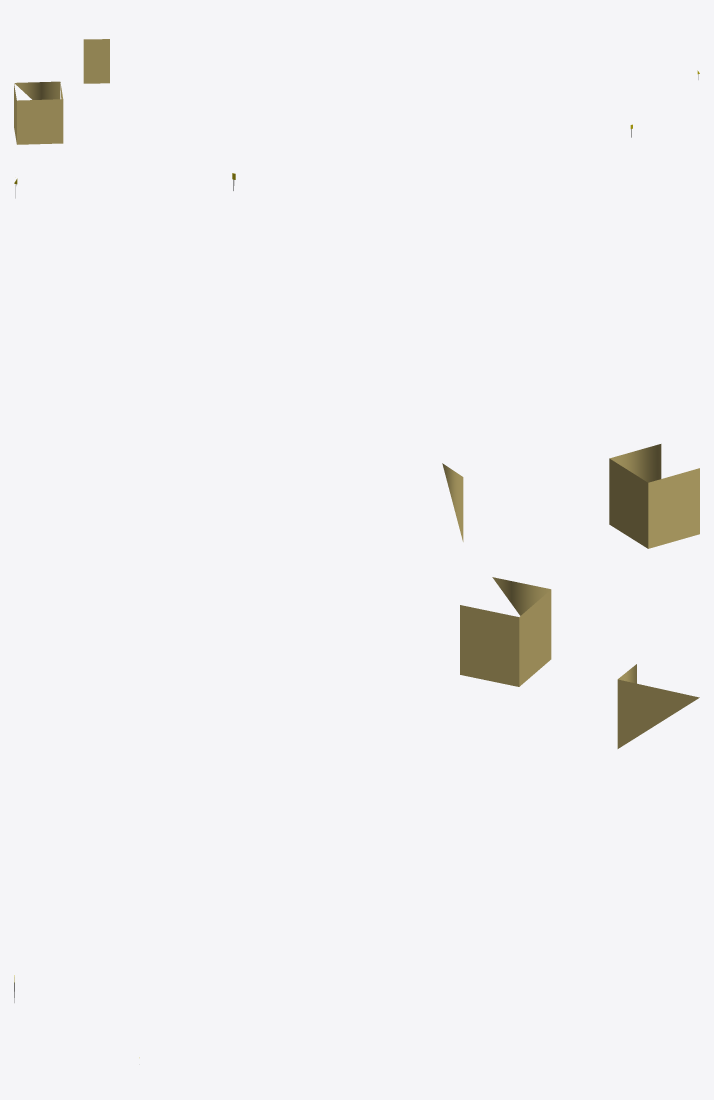
3 renders of one model, top to bottom at view 1: azimuth 30°, elevation 25°; view 2: azimuth 150°, elevation 25°; view 3: azimuth 270°, elevation 25°, orthographic. The views are drawn at different scales.
Size of the model in its own units: 101 by 7.5 by 66.69.
